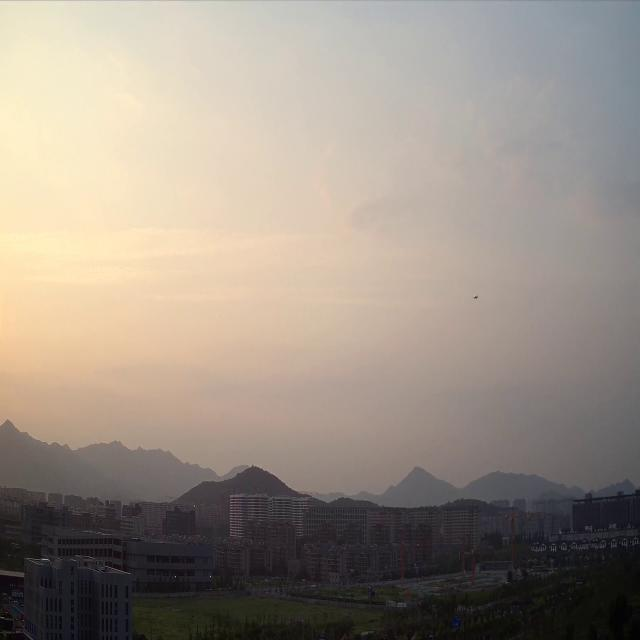drone: (474, 294, 478, 299)
